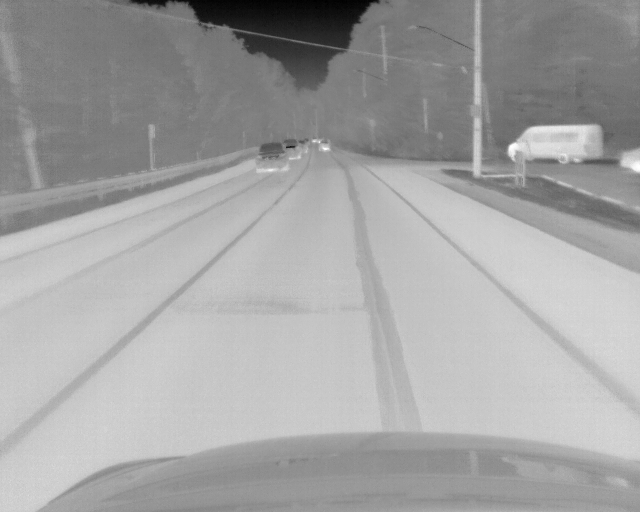car: (506, 124, 604, 166), (257, 142, 287, 172), (284, 139, 301, 159), (318, 137, 331, 152)
